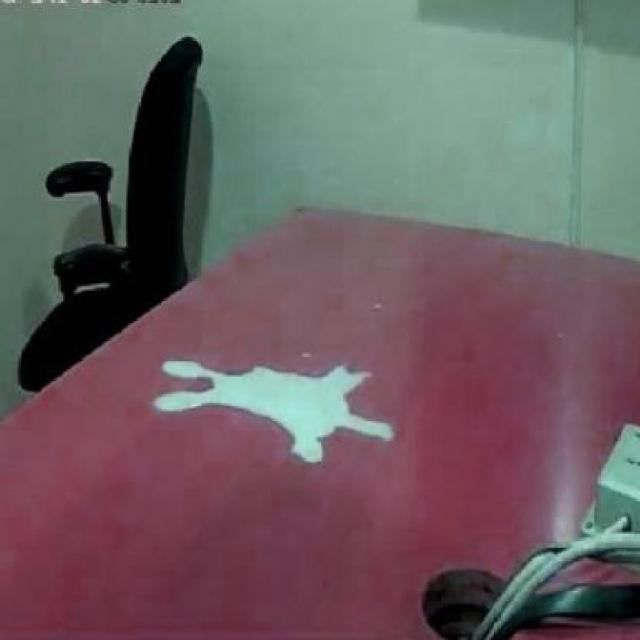spillage: (172, 360, 393, 463)
